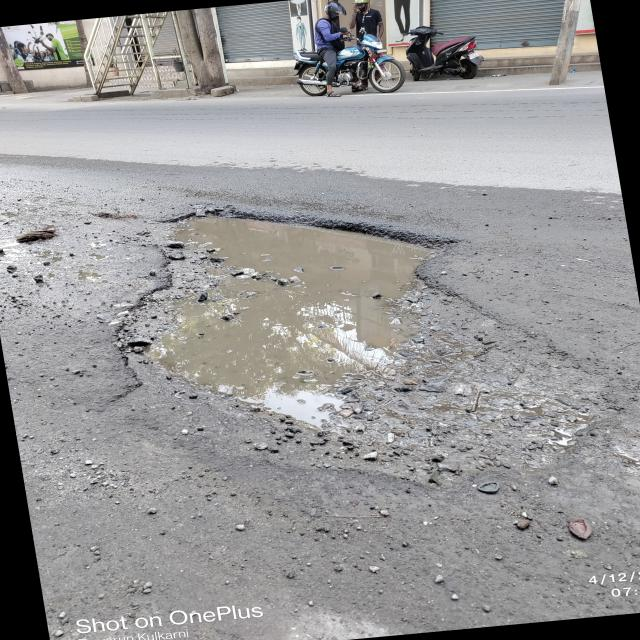Puddle pothole: (126, 200, 456, 424)
